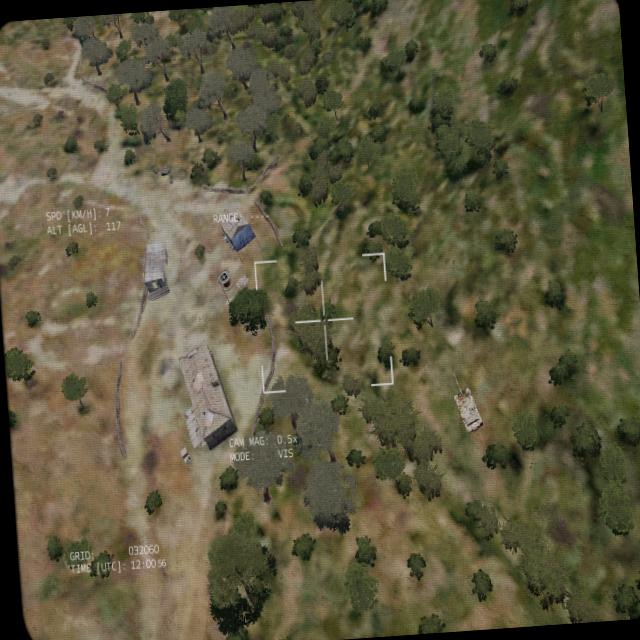tank: (449, 368, 484, 433)
